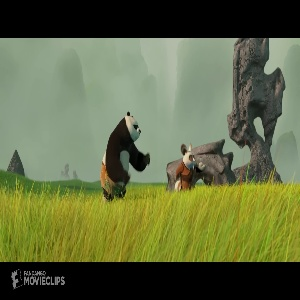po: (96, 108, 152, 205)
shifu: (174, 141, 206, 194)
